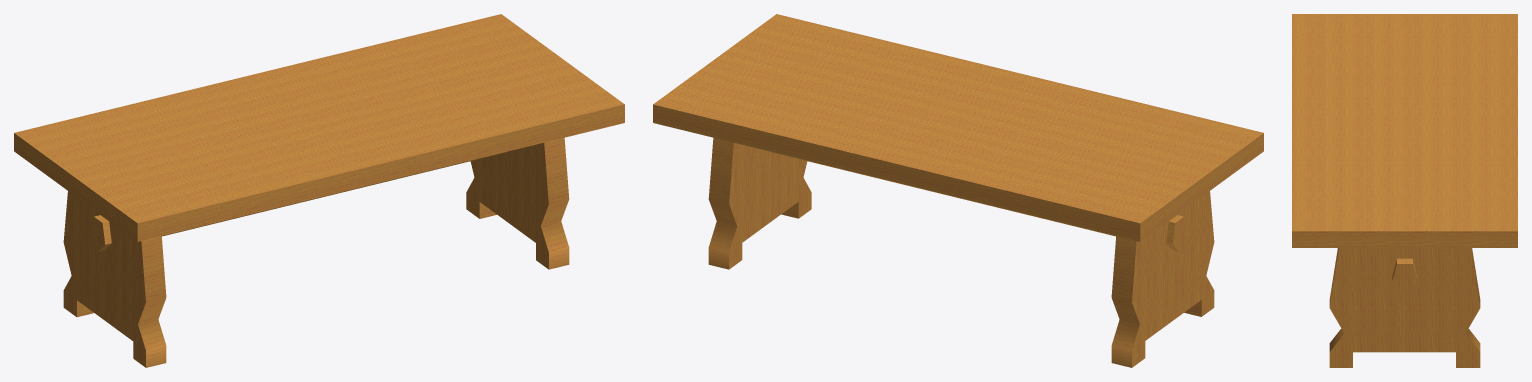
The model's file is table.fbx.
3 views of the same model, side by side, from view 1: azimuth 30°, elevation 25°; view 2: azimuth 150°, elevation 25°; view 3: azimuth 270°, elevation 25° (orthographic). The views are drawn at different scales.
Parts seen in each view (by area): view 1: pCube3; view 2: pCube3; view 3: pCube3.
Boxes of the visible parts, x1,y1,x2,y2 form: pCube3: (14,14,624,367); pCube3: (653,14,1263,367); pCube3: (1292,14,1517,367).
Size of the model in its own units: 23.87 by 7.81 by 10.49.
